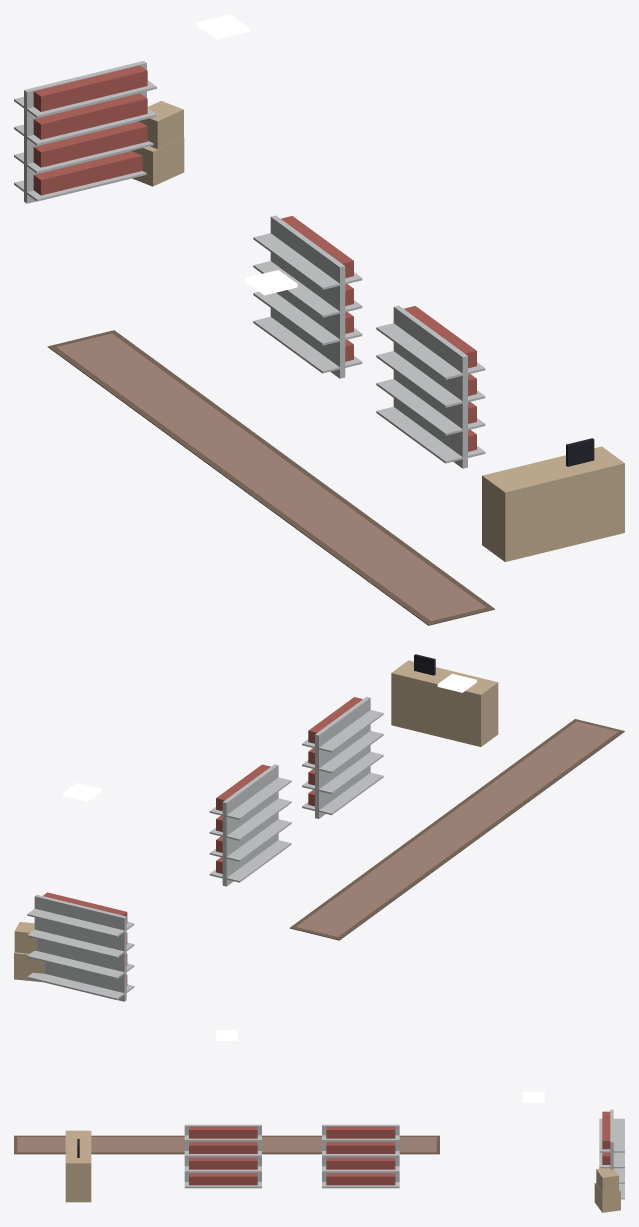
Rendered from fine-s0.glb.
3 views of the same model, one above another, from view 1: azimuth 30°, elevation 25°; view 2: azimuth 150°, elevation 25°; view 3: azimuth 270°, elevation 25° (orthographic). The views are drawn at different scales.
Parts seen in each view (by area): view 1: soft-s0, shelving.000, shop-counter.000, shelf.001, shelf.000, cardboard-box.000, ceiling-lamp.000, ceiling-lamp.001; view 2: soft-s0, shelving.000, shop-counter.000, shelf.000, shelf.001, cardboard-box.000, ceiling-lamp.000, ceiling-lamp.001; view 3: shelf.000, shelf.001, soft-s0, shop-counter.000, shelving.000, cardboard-box.000.
Boxes of the visible parts, x1,y1,x2,y2 form: soft-s0: (47, 330, 494, 625); shelving.000: (14, 61, 156, 203); shop-counter.000: (482, 438, 624, 561); shelf.001: (376, 305, 485, 468); shelf.000: (253, 215, 362, 378); cardboard-box.000: (131, 101, 184, 186); ceiling-lamp.000: (245, 270, 297, 295); ceiling-lamp.001: (197, 14, 249, 39); soft-s0: (289, 719, 624, 940); shelving.000: (27, 892, 134, 1001); shop-counter.000: (391, 654, 498, 746); shelf.000: (209, 764, 291, 886); shelf.001: (302, 696, 383, 818); cardboard-box.000: (14, 922, 44, 982); ceiling-lamp.000: (437, 673, 476, 692); ceiling-lamp.001: (62, 783, 101, 801); shelf.000: (322, 1124, 399, 1188); shelf.001: (184, 1124, 261, 1188); soft-s0: (14, 1135, 439, 1154); shop-counter.000: (65, 1130, 91, 1202); shelving.000: (599, 1109, 624, 1199); cardboard-box.000: (594, 1168, 620, 1212).
Size of the model in its own units: 4.23 by 2.83 by 14.21.
